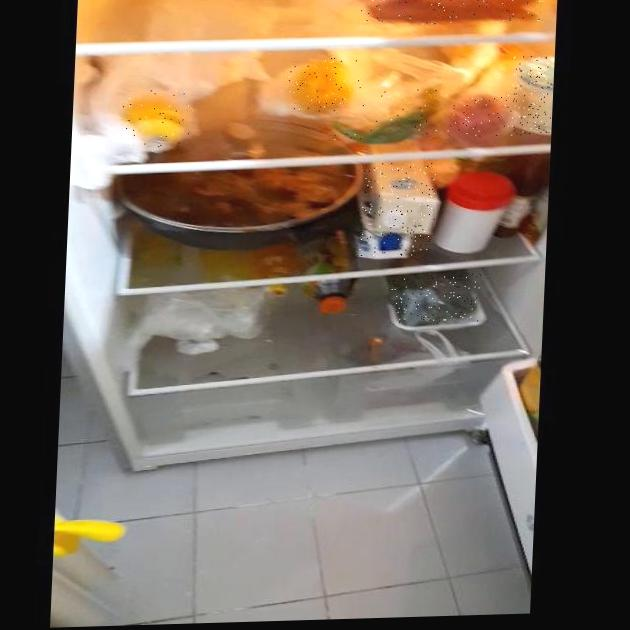broccoli: (390, 273, 482, 325)
carrot: (359, 0, 543, 26)
green chilies: (333, 85, 440, 141)
lemon: (122, 88, 192, 148), (286, 57, 360, 112)
milk: (360, 162, 438, 257)
tomato: (439, 93, 514, 142)
yoghurt: (510, 55, 554, 136)
